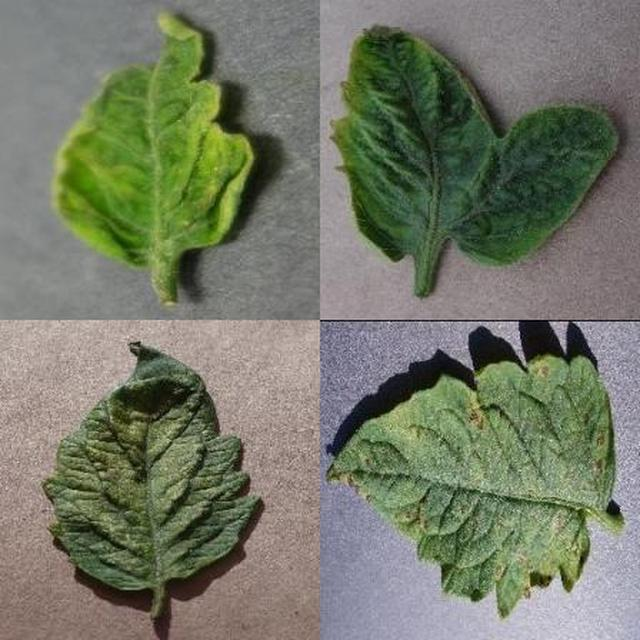Yellow Leaf Curl Virus: (216, 193, 640, 640)
